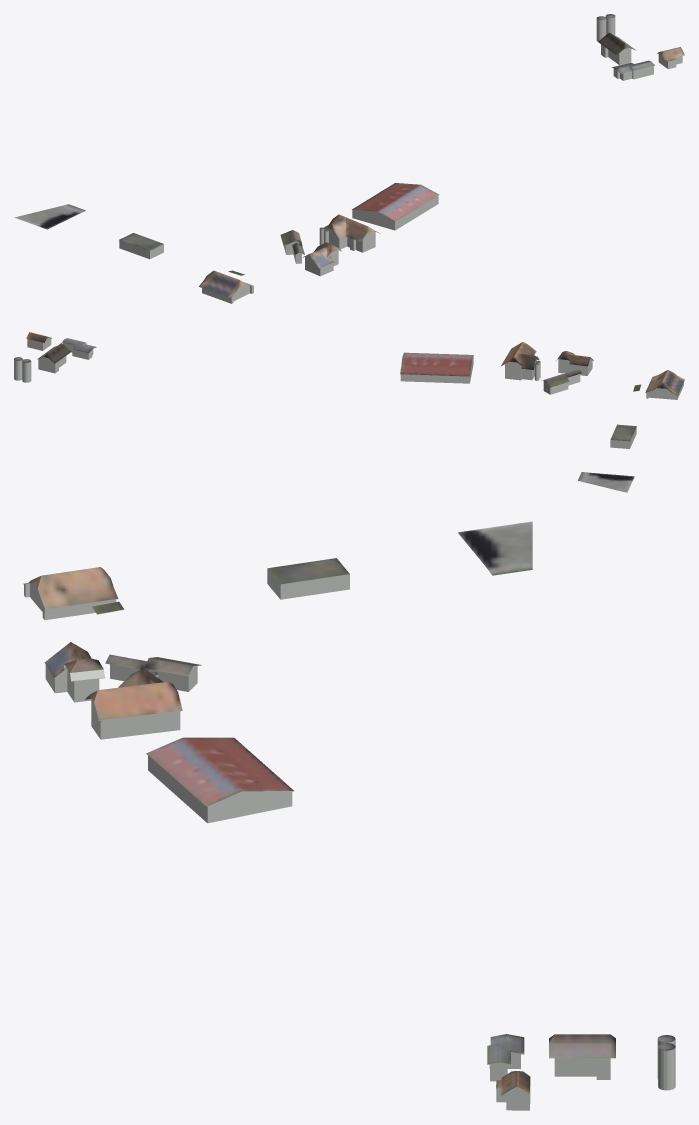
The model's file is LSZB_0_-2.glb.
The picture shows the model from 3 angles, top to bottom: view 1: azimuth 30°, elevation 25°; view 2: azimuth 150°, elevation 25°; view 3: azimuth 270°, elevation 25°; orthographic projection. The views are drawn at different scales.
Parts seen in each view (by area): view 1: building_8d8ae4d65ba12ef6, building_780d0be5e4bdc390, building_52646007b6bc1638, building_bd212ff0bdaf492f, building_a1aa0120af27f477, building_8cf3fa5b21a45e07, pavement_LSZB_pavement_5209_2389; view 2: building_8d8ae4d65ba12ef6, building_780d0be5e4bdc390, building_bd212ff0bdaf492f, building_52646007b6bc1638, building_a1aa0120af27f477, building_8cf3fa5b21a45e07, pavement_LSZB_pavement_5209_2389, building_b2f30fc6266ec061; view 3: building_8d8ae4d65ba12ef6, building_780d0be5e4bdc390, building_52646007b6bc1638, building_bd212ff0bdaf492f, building_a1aa0120af27f477, pavement_LSZB_pavement_5209_2389, building_8cf3fa5b21a45e07.
Boxes of the visible parts, x1,y1,x2,y2 form: building_8d8ae4d65ba12ef6: (324,183,439,242); building_780d0be5e4bdc390: (119,227,341,298); building_52646007b6bc1638: (324,195,438,252); building_bd212ff0bdaf492f: (119,229,338,303); building_a1aa0120af27f477: (598,32,684,73); building_8cf3fa5b21a45e07: (601,44,682,80); pavement_LSZB_pavement_5209_2389: (14,204,85,229); building_8d8ae4d65ba12ef6: (400,342,539,376); building_780d0be5e4bdc390: (534,351,684,441); building_bd212ff0bdaf492f: (534,358,683,448); building_52646007b6bc1638: (400,356,536,383); building_a1aa0120af27f477: (26,332,96,363); building_8cf3fa5b21a45e07: (27,338,93,373); pavement_LSZB_pavement_5209_2389: (578,472,634,492); building_b2f30fc6266ec061: (14,359,31,382); building_8d8ae4d65ba12ef6: (84,668,294,806); building_780d0be5e4bdc390: (23,558,349,681); building_52646007b6bc1638: (91,684,292,823); building_bd212ff0bdaf492f: (24,569,349,702); building_a1aa0120af27f477: (487,1034,615,1095); pavement_LSZB_pavement_5209_2389: (458,521,532,575); building_8cf3fa5b21a45e07: (489,1052,610,1110).
Size of the model in its own units: 502 by 18.32 by 236.
Materials: 3 (2 with a texture image).
